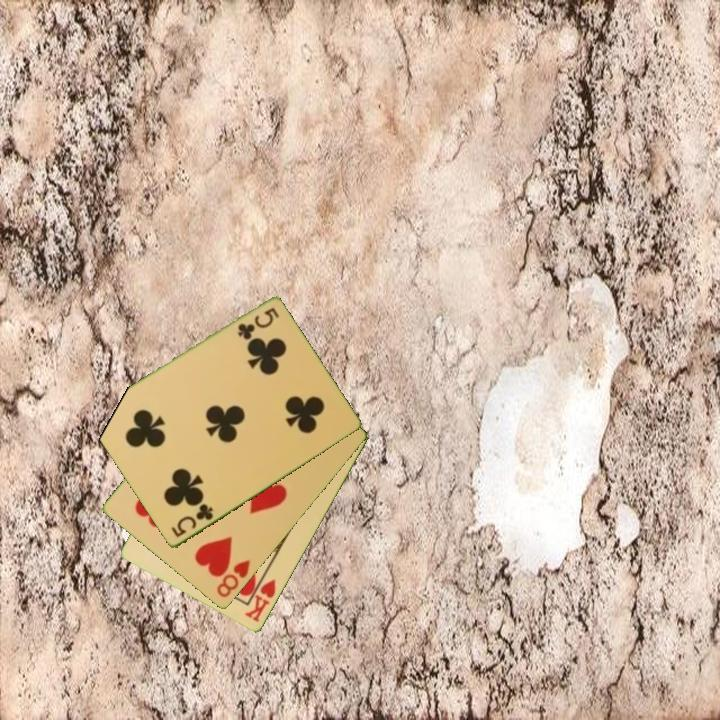5c: (168, 500, 216, 541), (234, 304, 282, 342)
8h: (213, 556, 253, 601)
Kh: (241, 569, 279, 625)
